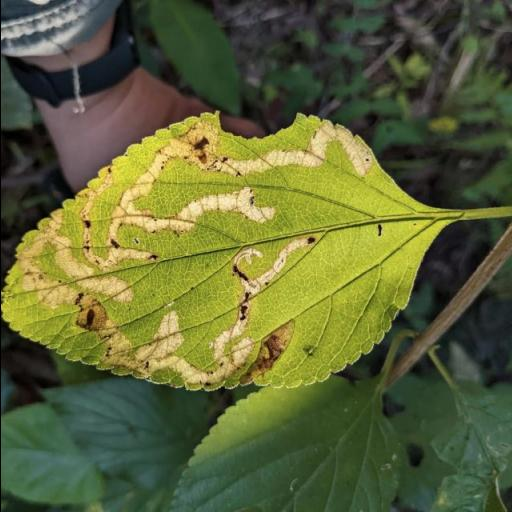disease_tomato: (0, 110, 434, 392)
